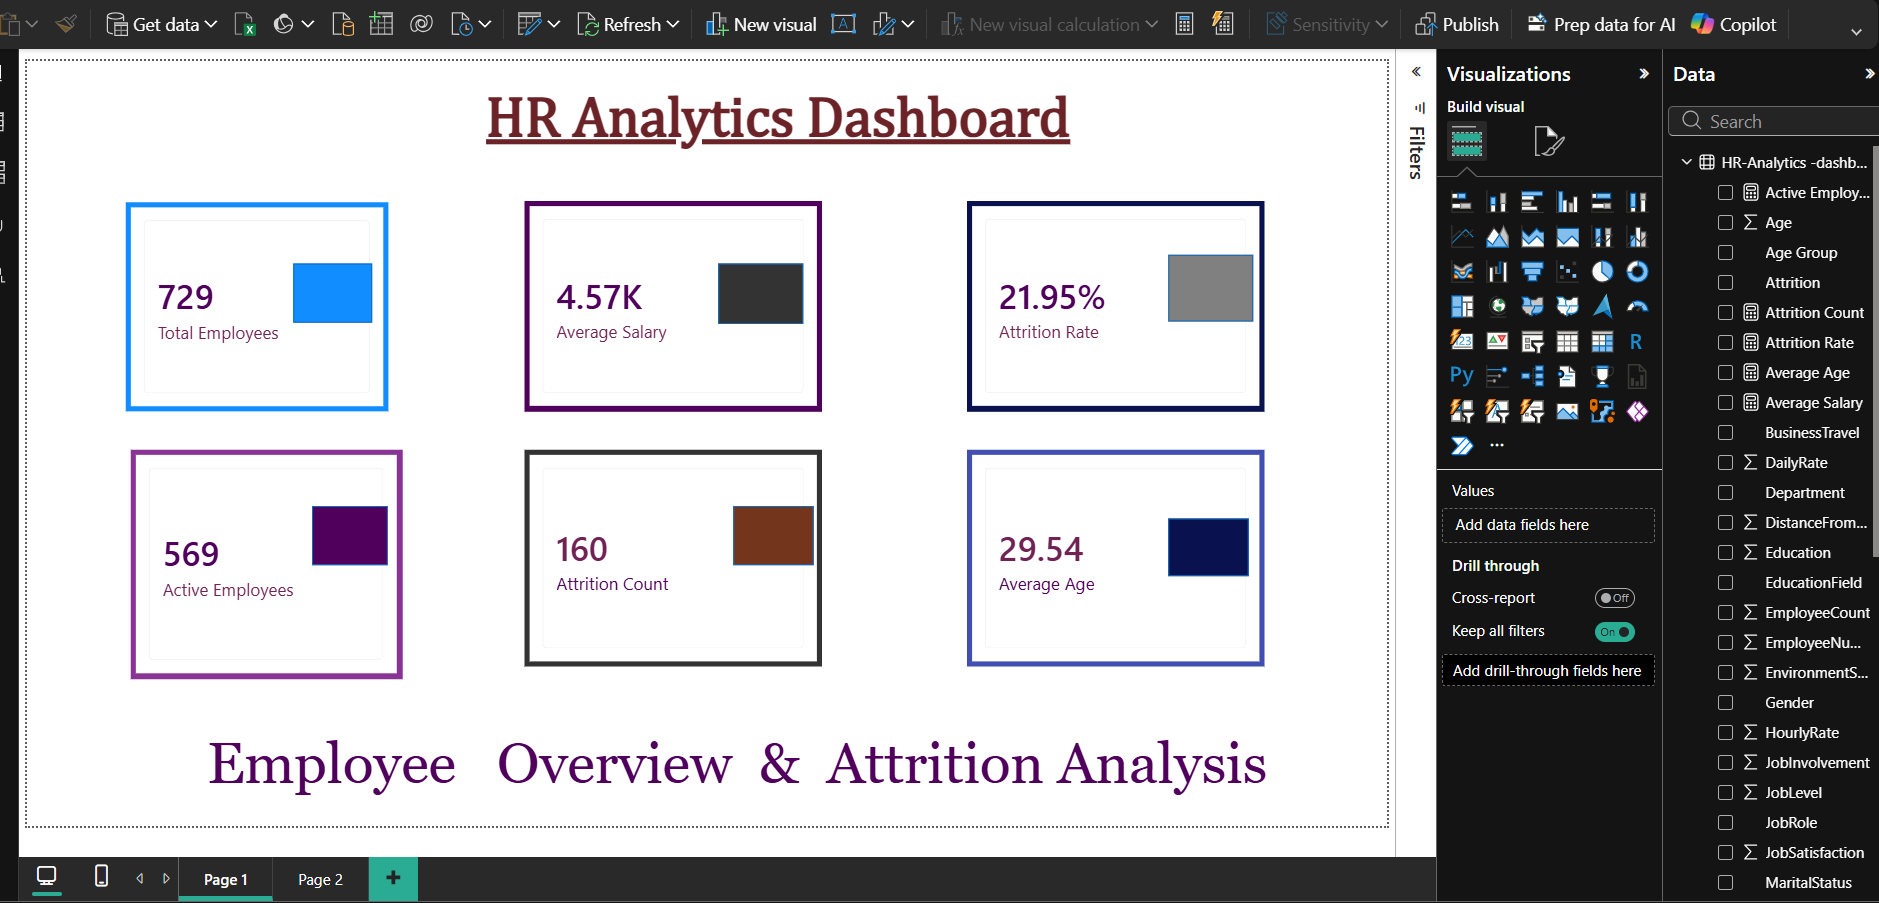

The dashboard page shown, as its layout file describes it:
{"tool":"powerbi","page":{"name":"Page 1","canvas":[1280,720],"ordinal":0},"visuals":[{"type":"cardVisual","fields":{"Data":["WA_Fn-UseC_-HR-Employee-Attrition.Total Employees"]},"box":[92.9,132.9,247.1,197.1],"z":0},{"type":"cardVisual","fields":{"Data":["WA_Fn-UseC_-HR-Employee-Attrition.Active Employees"]},"box":[97.1,365.7,255.7,215.7],"z":1},{"type":"cardVisual","fields":{"Data":["WA_Fn-UseC_-HR-Employee-Attrition.Attrition Count"]},"box":[468.6,365.7,280,204.3],"z":2},{"type":"cardVisual","fields":{"Data":["WA_Fn-UseC_-HR-Employee-Attrition.Attrition Rate"]},"box":[884.3,131.4,280,198.6],"z":3},{"type":"cardVisual","fields":{"Data":["WA_Fn-UseC_-HR-Employee-Attrition.Average Salary"]},"box":[468.6,131.4,280,198.6],"z":4},{"type":"cardVisual","fields":{"Data":["WA_Fn-UseC_-HR-Employee-Attrition.Average Age"]},"box":[884.3,365.7,280,204.3],"z":5},{"type":"textbox","box":[420,20,584.3,74.3],"z":6},{"type":"textbox","box":[151.4,625.7,1098.6,94.3],"z":7},{"type":"shape","box":[250,190,74.3,55.7],"z":8},{"type":"shape","box":[268.6,418.6,71.4,55.7],"z":9},{"type":"shape","box":[650,190,80,57.1],"z":10},{"type":"shape","box":[1074.3,182.9,80,62.9],"z":11},{"type":"shape","box":[664.3,418.6,75.7,55.7],"z":12},{"type":"shape","box":[1074.3,430,75.7,54.3],"z":13}]}

Visuals, with their boxes on the page's 1280x720 design canvas (x1, y1, x2, y2). These are canvas units, not pixel positions in the 1879x903 screenshot, which may show the page scaled, cropped or inside an application window:
cardVisual - WA_Fn-UseC_-HR-Employee-Attrition.Total Employees: [left=93, top=133, right=340, bottom=330]
cardVisual - WA_Fn-UseC_-HR-Employee-Attrition.Active Employees: [left=97, top=366, right=353, bottom=581]
cardVisual - WA_Fn-UseC_-HR-Employee-Attrition.Attrition Count: [left=469, top=366, right=749, bottom=570]
cardVisual - WA_Fn-UseC_-HR-Employee-Attrition.Attrition Rate: [left=884, top=131, right=1164, bottom=330]
cardVisual - WA_Fn-UseC_-HR-Employee-Attrition.Average Salary: [left=469, top=131, right=749, bottom=330]
cardVisual - WA_Fn-UseC_-HR-Employee-Attrition.Average Age: [left=884, top=366, right=1164, bottom=570]
textbox: [left=420, top=20, right=1004, bottom=94]
textbox: [left=151, top=626, right=1250, bottom=720]
shape: [left=250, top=190, right=324, bottom=246]
shape: [left=269, top=419, right=340, bottom=474]
shape: [left=650, top=190, right=730, bottom=247]
shape: [left=1074, top=183, right=1154, bottom=246]
shape: [left=664, top=419, right=740, bottom=474]
shape: [left=1074, top=430, right=1150, bottom=484]
